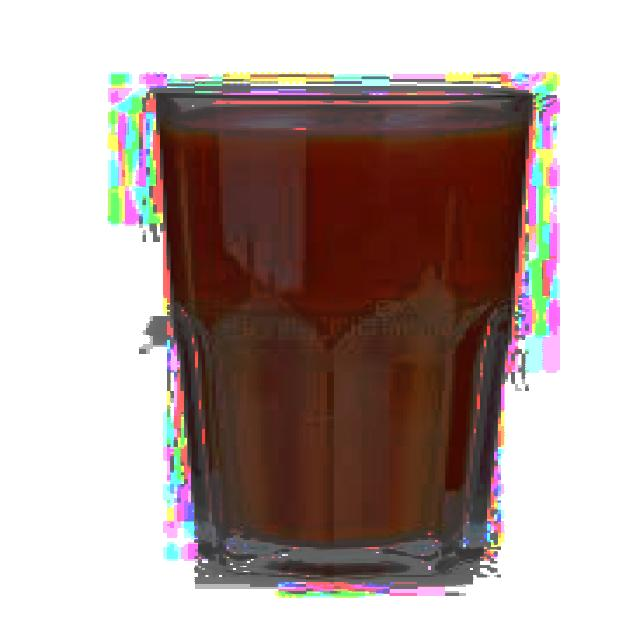drink: (146, 74, 546, 586)
